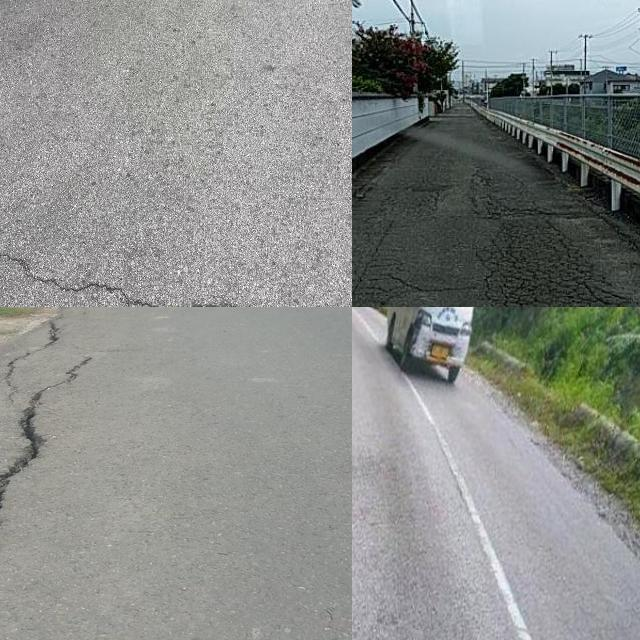Melintang: (0, 238, 326, 307)
Memanjang: (0, 336, 125, 548)
Retak Buaya: (476, 217, 623, 307)
